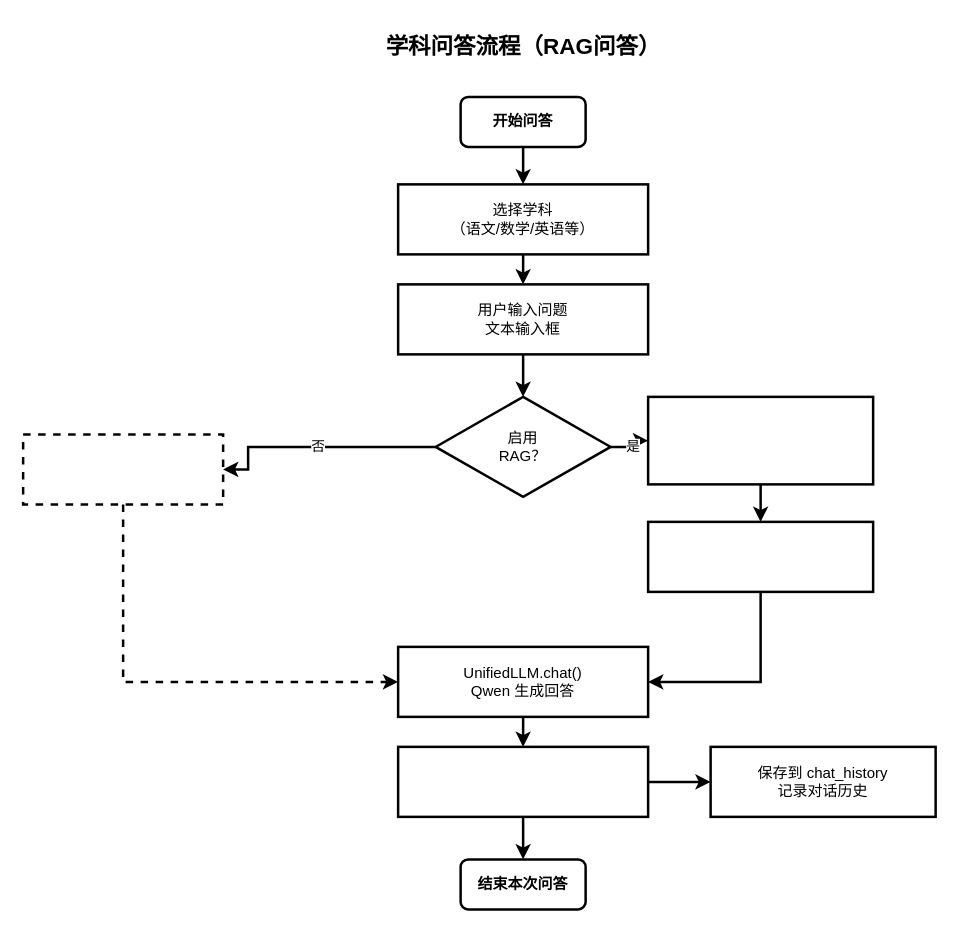
The diagram is 958 pixels wide and 931 high, and some of its shapes have lost their labels. The shapes that lost their labels are listed below. From the top down, each one's centre as x and y in pixels, then its label:
pixel 760 440: VectorStore .similarity_search() 向量相似度检索
pixel 122 468: 直接调用 LLM （无参考文档）
pixel 760 556: 构建上下文 拼接参考文档内容
pixel 522 781: 显示回答 含参考来源（如有）
